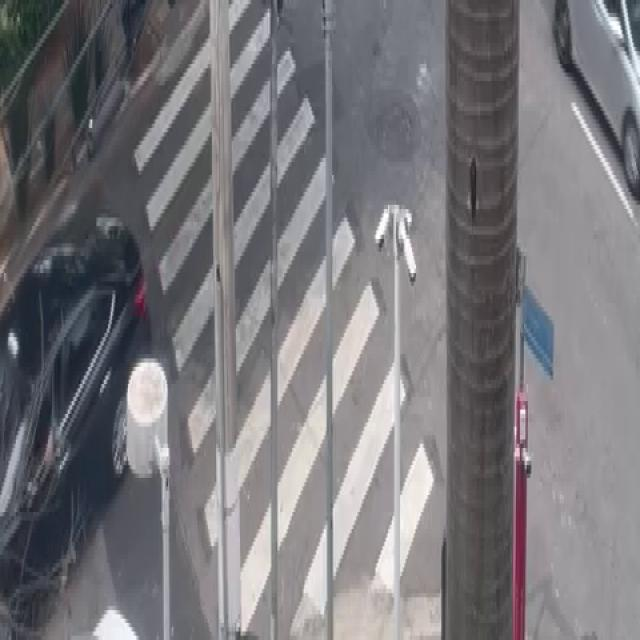car: (2, 213, 152, 640), (544, 0, 640, 175)
